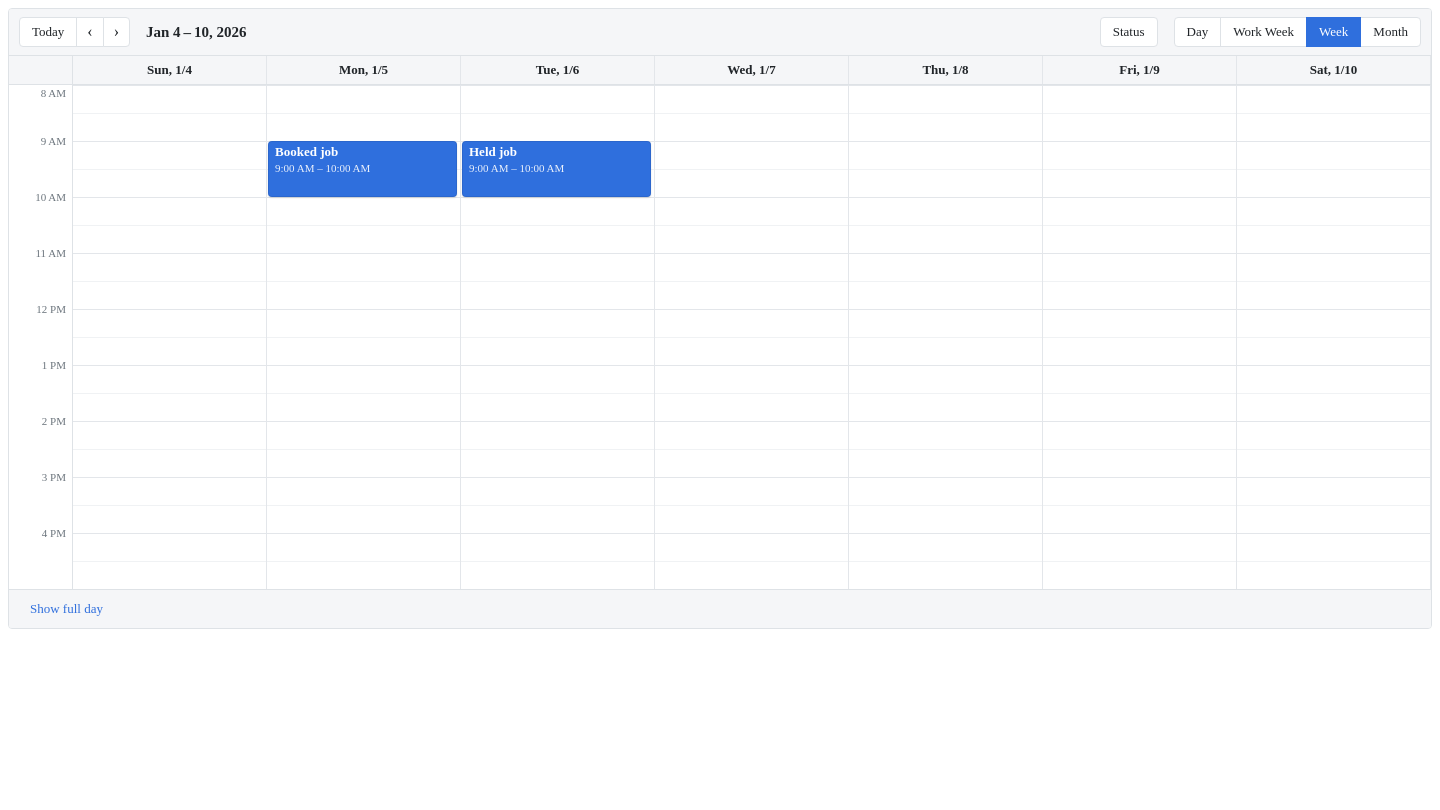
Test case: filtering › accepts a custom filter over any field — the extensibility claim
This screenshot has width=1440, height=810.
Click the button "Status" at (1129, 32), box [1100, 17, 1158, 47]
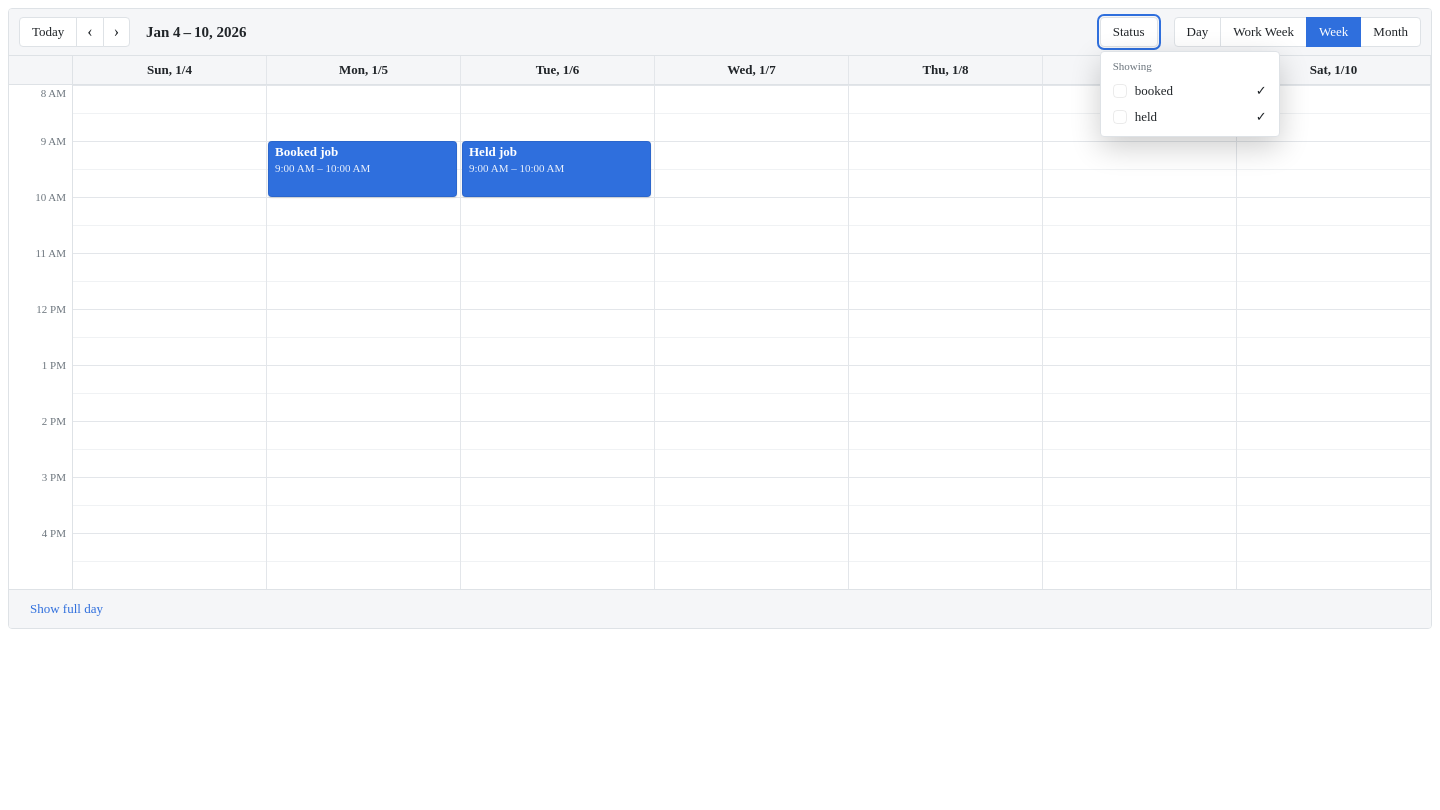
Click the button "booked ✓" at (1190, 91), box [1107, 78, 1273, 104]
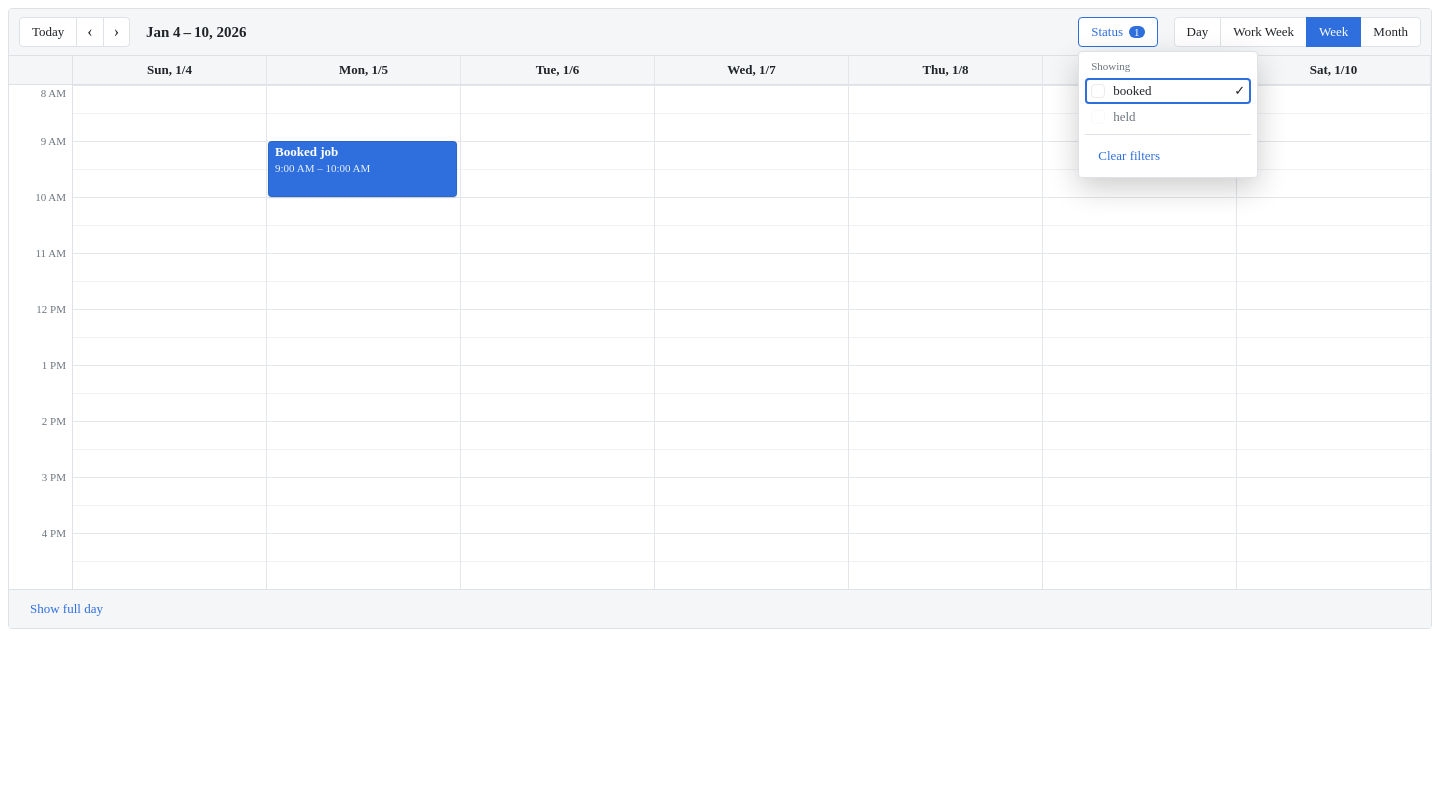
Expected: the text "Booked job" is shown, [275, 144, 338, 159]
Result: the text "Held job" is gone
